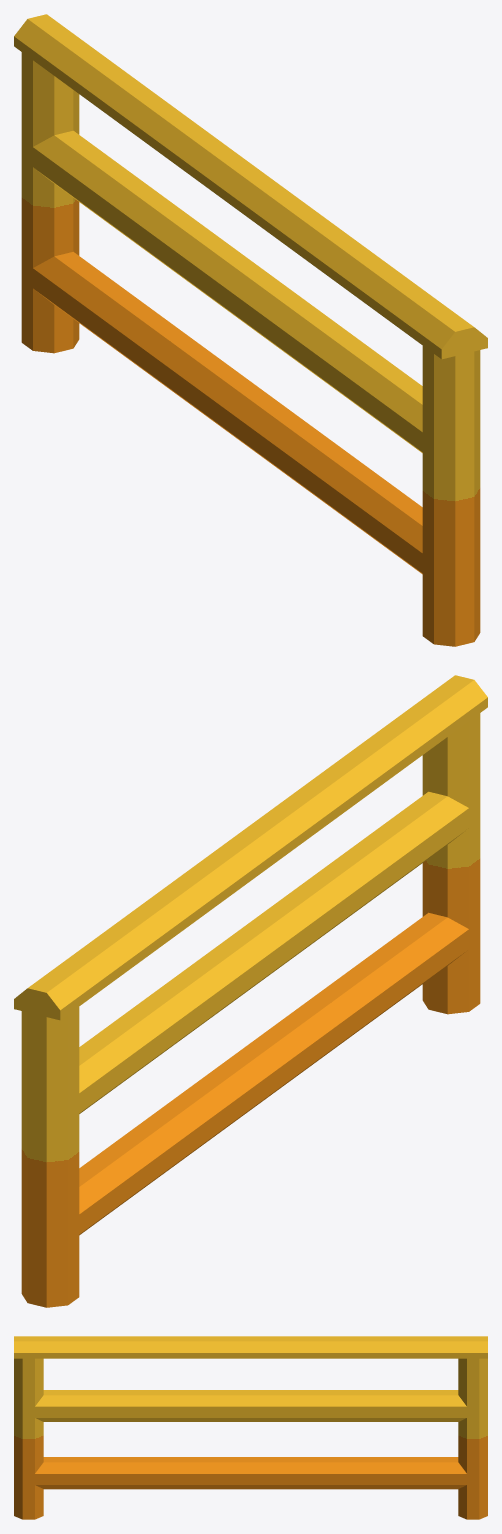
3 views of the same model, one above another, from view 1: azimuth 30°, elevation 25°; view 2: azimuth 150°, elevation 25°; view 3: azimuth 270°, elevation 25° (orthographic). The views are drawn at different scales.
Visible parts, largest first — view 1: cylinder_4, cylinder_2, cylinder_3, cylinder_1, cylinder; view 2: cylinder_4, cylinder_2, cylinder_3, cylinder, cylinder_1; view 3: cylinder_2, cylinder_4, cylinder_3, cylinder, cylinder_1.
Part boxes in pixels (x1,y1,x2,y2): cylinder_4: (27, 130, 428, 455); cylinder_2: (28, 251, 427, 576); cylinder_3: (14, 14, 487, 359); cylinder_1: (422, 346, 480, 646); cylinder: (21, 52, 79, 353); cylinder_4: (73, 791, 474, 1116); cylinder_2: (73, 912, 474, 1236); cylinder_3: (14, 675, 487, 1020); cylinder: (21, 1007, 79, 1307); cylinder_1: (422, 713, 480, 1014); cylinder_2: (35, 1457, 466, 1489); cylinder_4: (29, 1390, 469, 1421); cylinder_3: (14, 1336, 487, 1358); cylinder: (458, 1358, 487, 1519); cylinder_1: (14, 1358, 43, 1519).
Bounding box in the file's own units: 6.25 × 40.63 × 100.
1 material, 1 textured.
